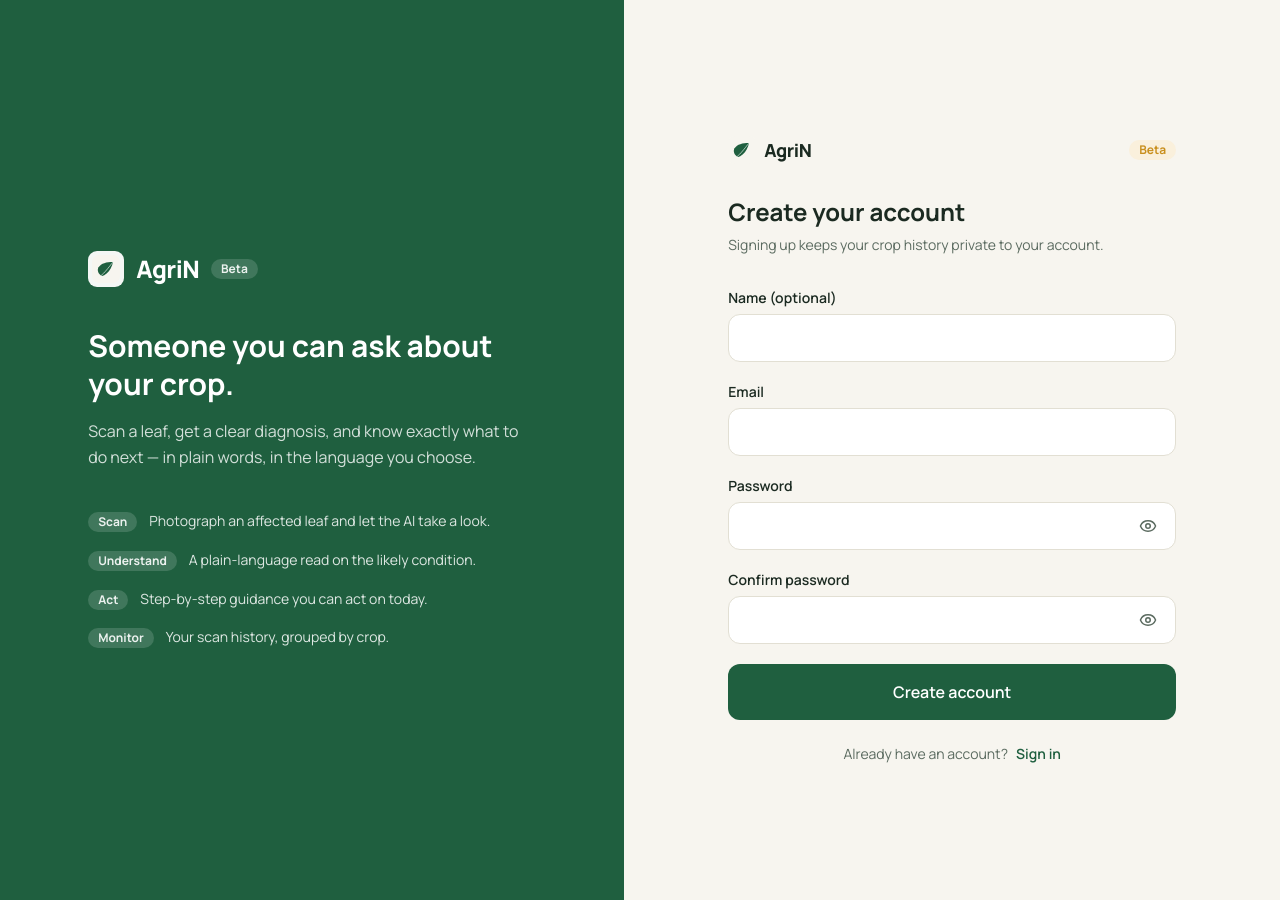
Test case: AuthPage — sign up › shows an existing-account error
Type "taken@example.com" into the field labelled "Email". click: (952, 432)
box: [728,408,1176,456]
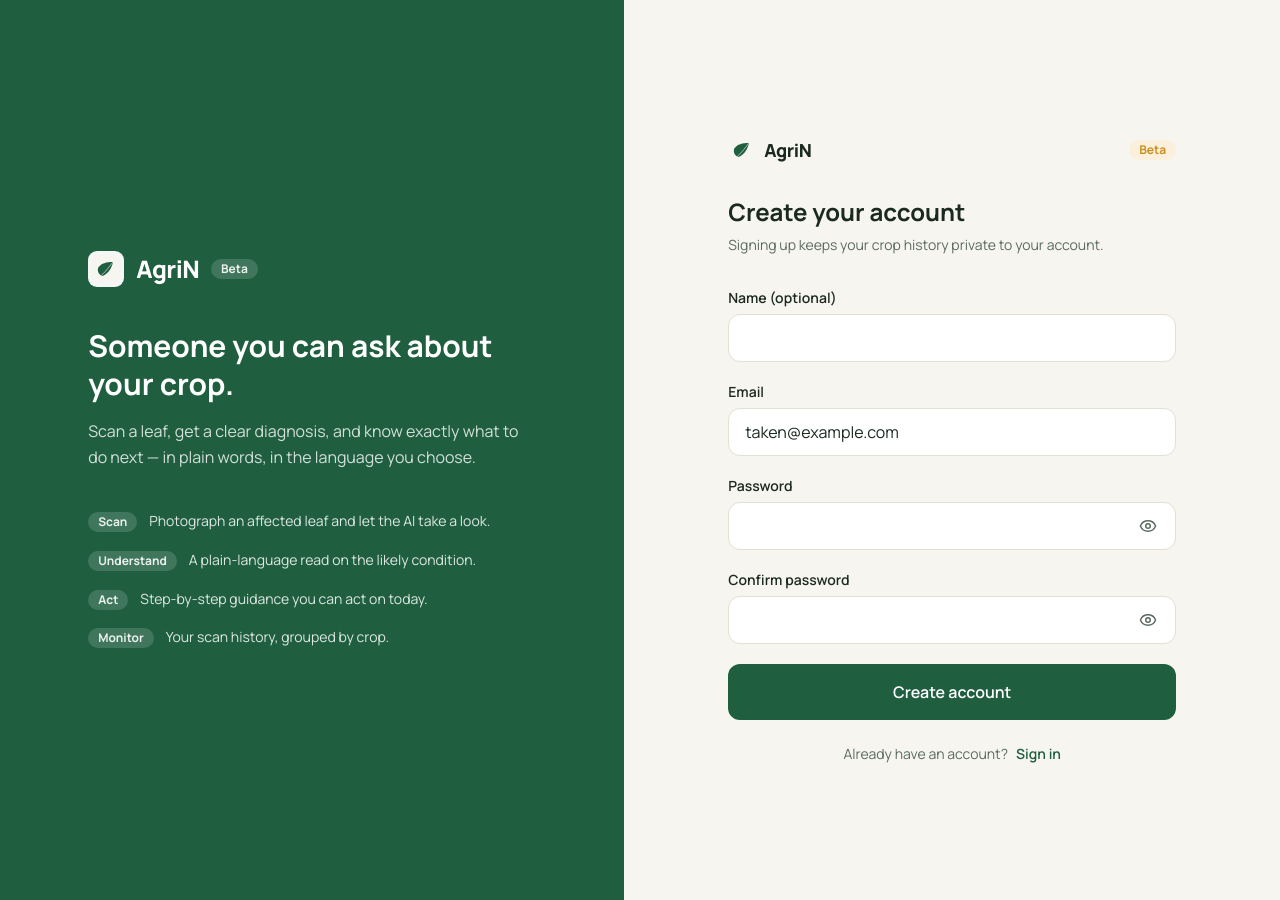
Type "secret123" into the password field labelled "Password". click: (952, 526)
box: [728,502,1176,550]
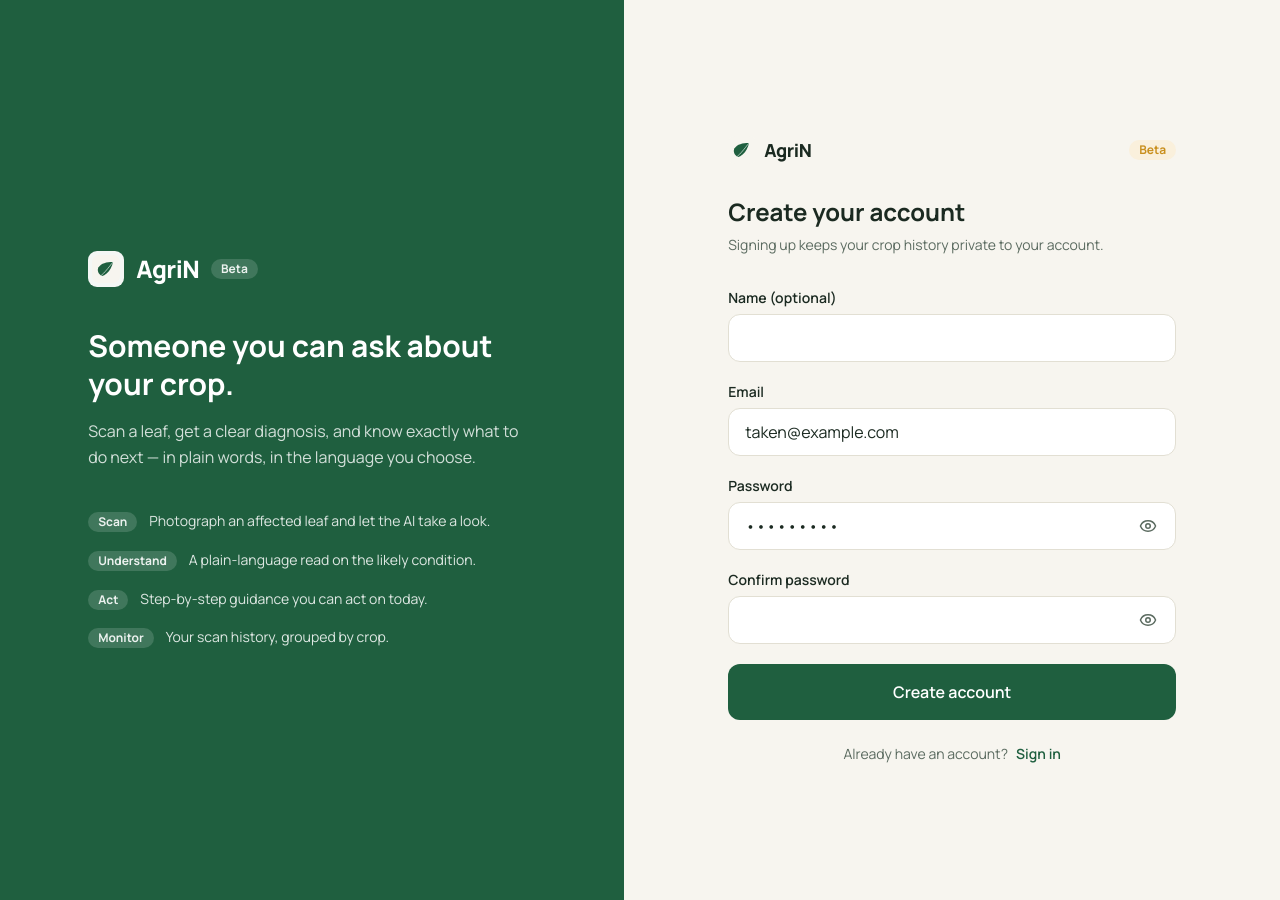
Type "secret123" into the password field labelled "Confirm password". click: (952, 620)
box: [728,596,1176,644]
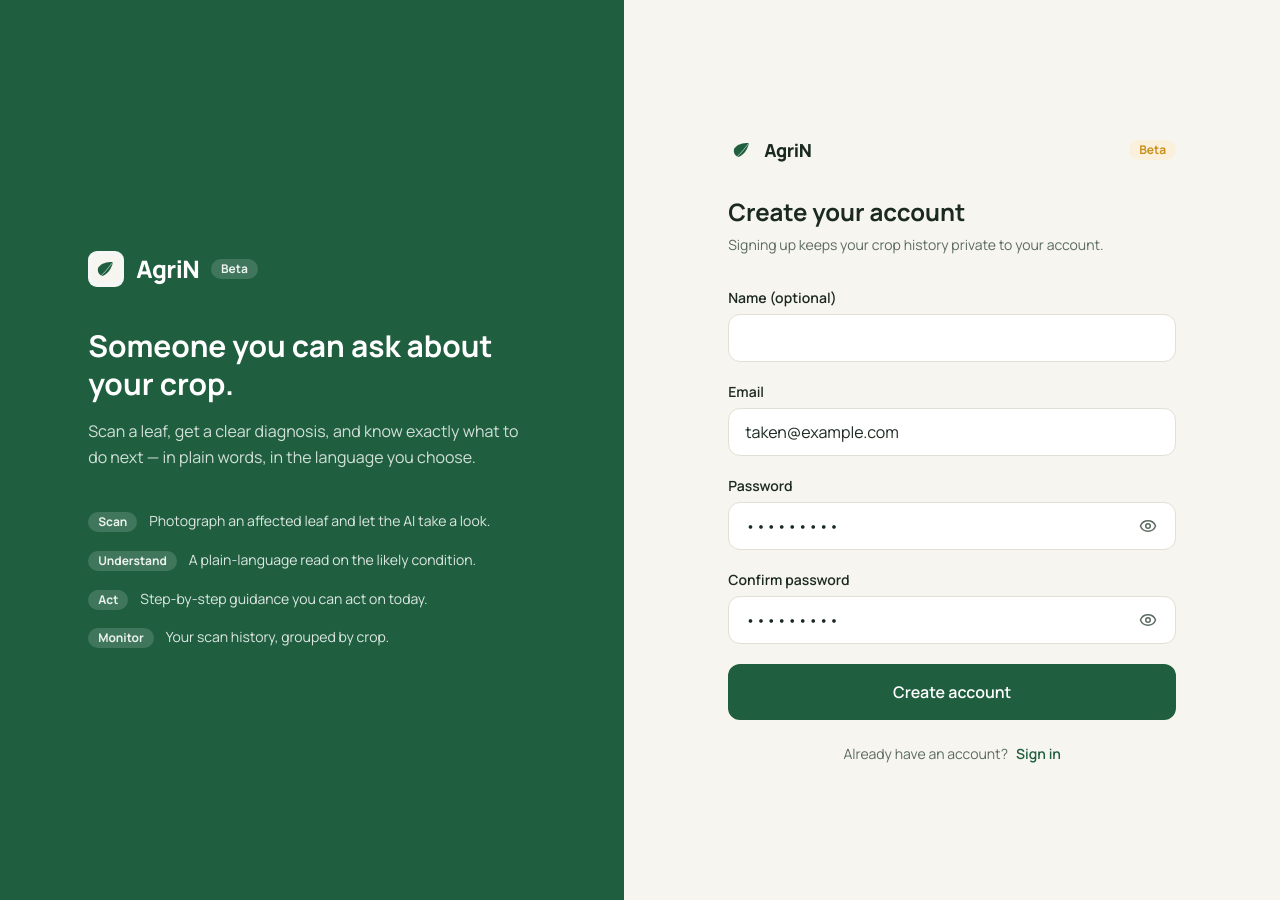
Click the button "Create account". click: (952, 692)
box: [728,664,1176,720]
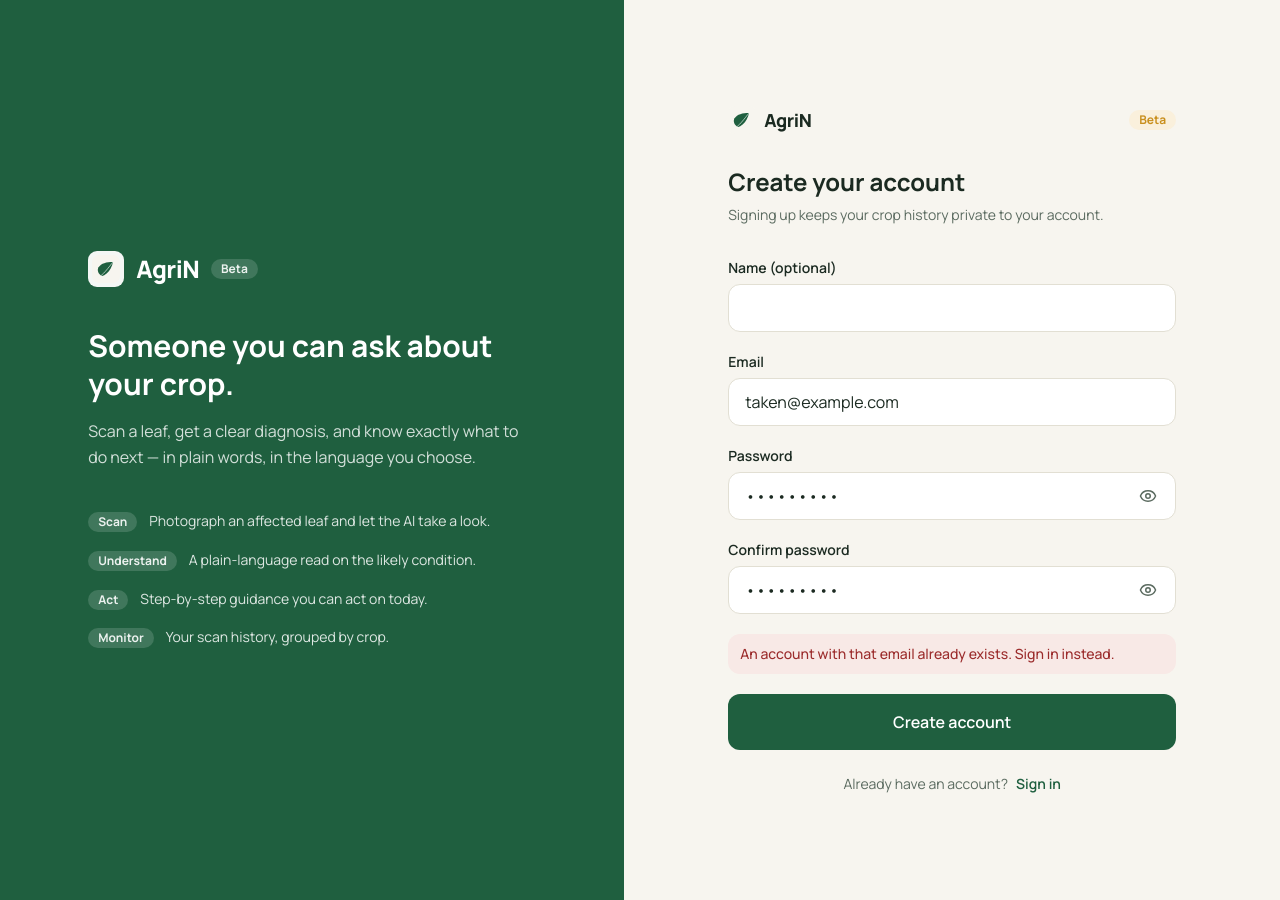
expect the message shows "An account with that email already exists.": met, box [740,644,1115,663]
